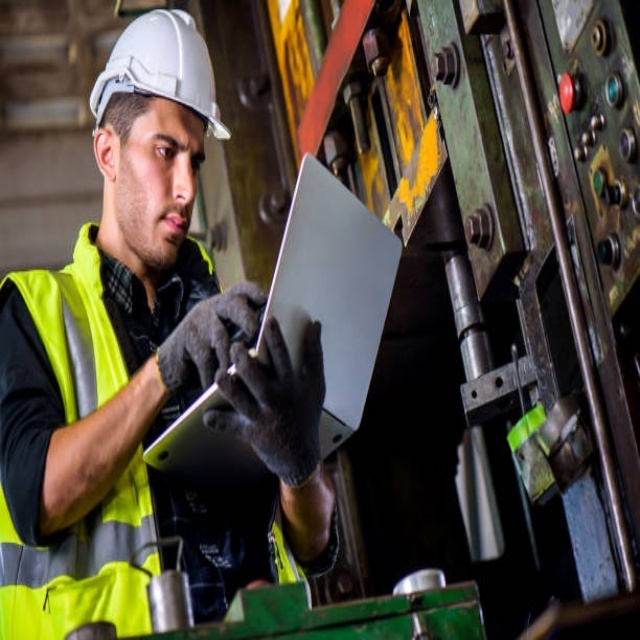Guantes: (206, 312, 326, 488), (154, 273, 269, 395)
Sin_gafas: (137, 133, 212, 174)
Sin_mascara: (145, 210, 187, 251)
